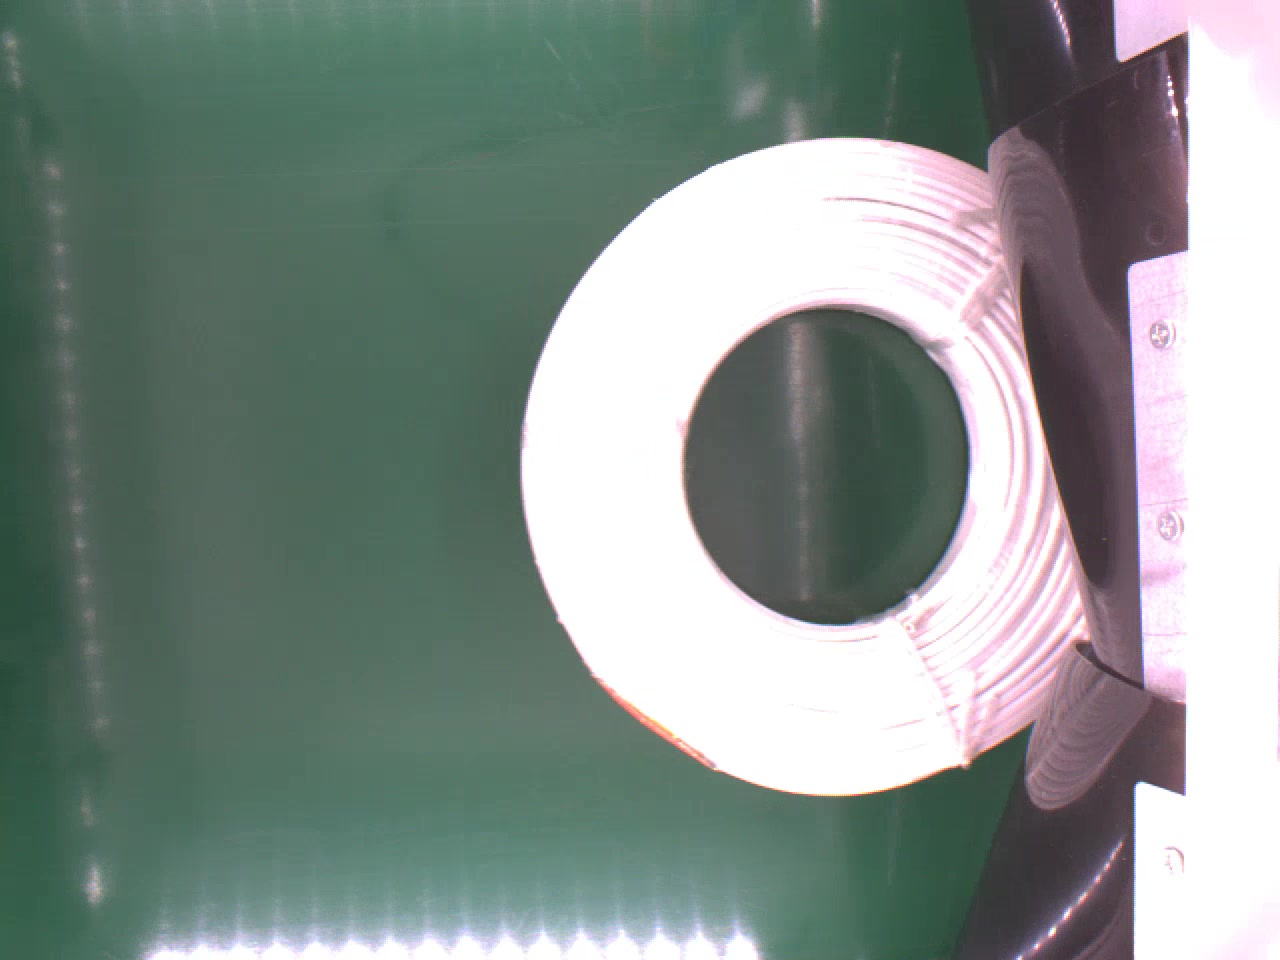white: (516, 134, 1100, 805)
